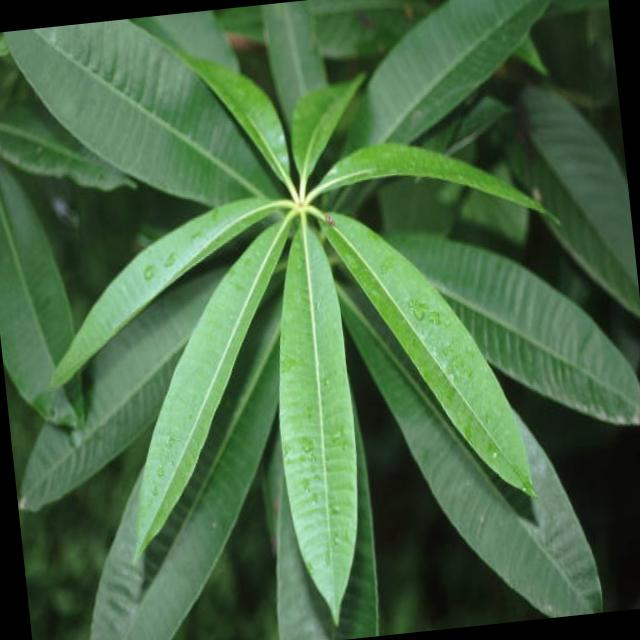Indian Pulai: (2, 0, 614, 640), (164, 68, 518, 504)
